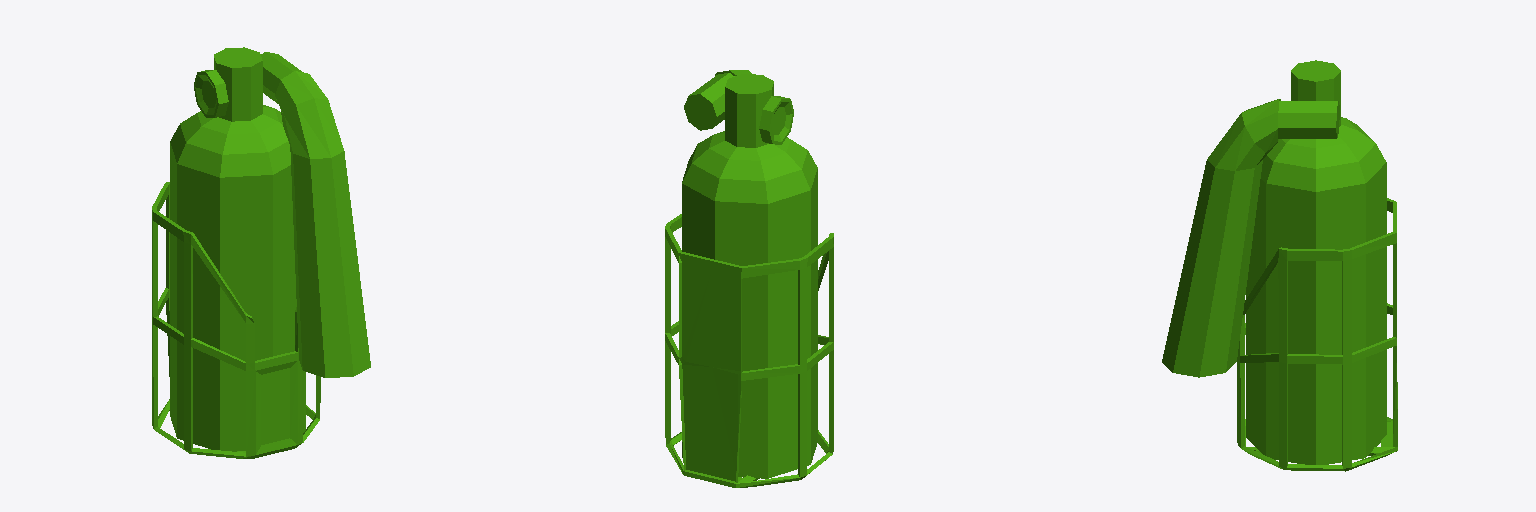
The model's file is Fire_Extinguisher.obj.
The picture shows the model from 3 angles: view 1: azimuth 30°, elevation 25°; view 2: azimuth 150°, elevation 25°; view 3: azimuth 270°, elevation 25°; orthographic projection.
Parts seen in each view (by area): view 1: Fire_Extinguisher; view 2: Fire_Extinguisher; view 3: Fire_Extinguisher.
Boxes of the visible parts, x1=… form: Fire_Extinguisher: x1=152, y1=47, x2=370, y2=458; Fire_Extinguisher: x1=665, y1=70, x2=833, y2=487; Fire_Extinguisher: x1=1162, y1=60, x2=1397, y2=471.
Size of the model in its own units: 24.63 by 61.22 by 35.44.